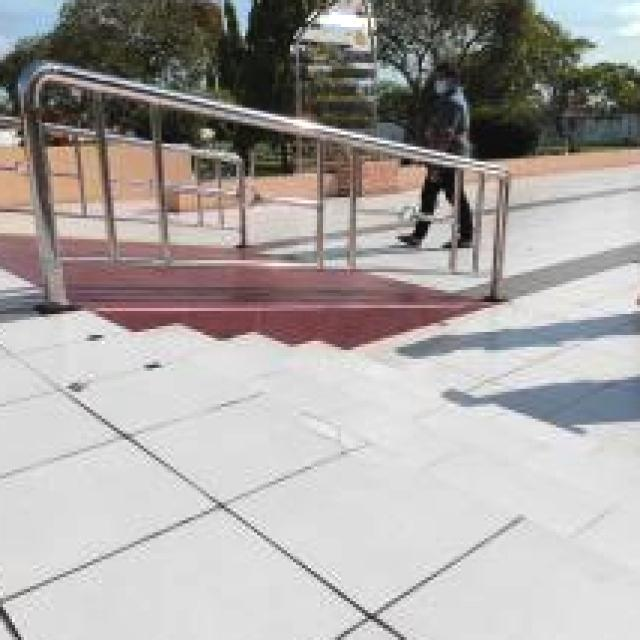downstair: (123, 330, 640, 608)
